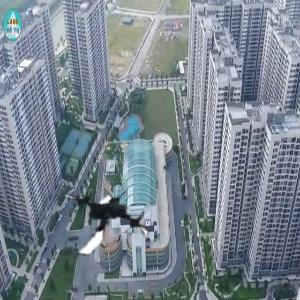drone: (50, 174, 149, 273)
